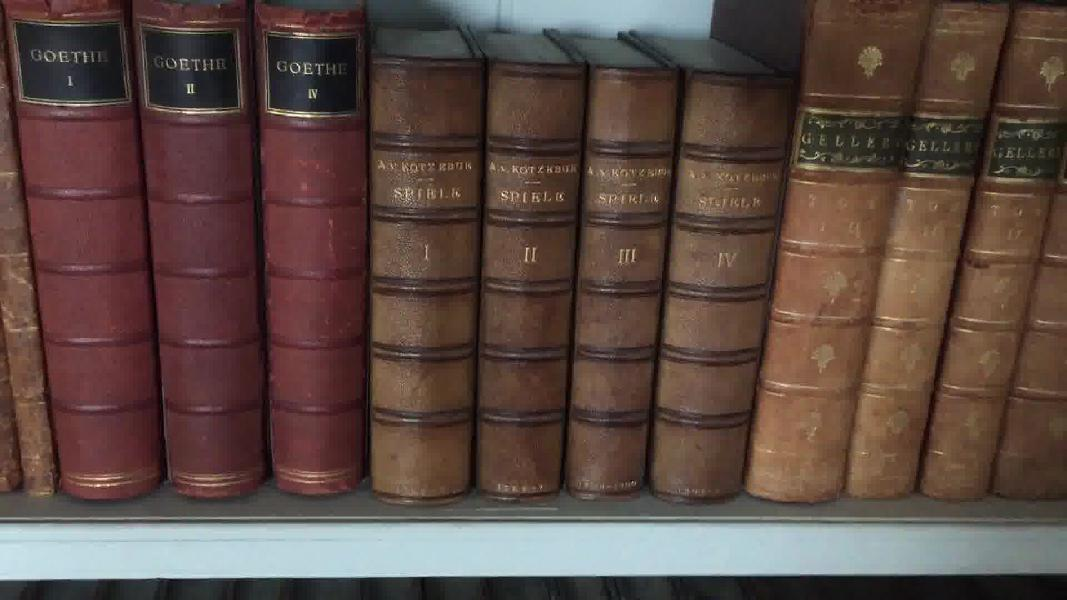Aa6-11_13: (8, 7, 378, 516)
Aa6-14_17: (359, 42, 790, 520)
Aa6-18_23: (732, 8, 1067, 516)
